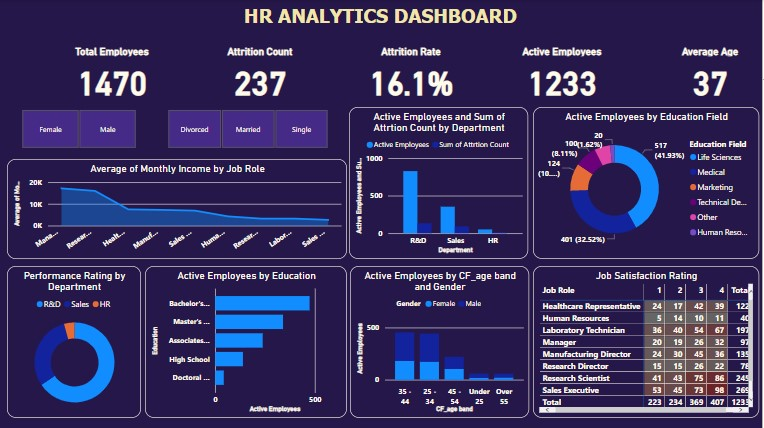

Layout of this report page (visuals, bound fields, positions):
{"tool":"powerbi","page":{"name":"Page 1","canvas":[1280,720],"ordinal":0},"visuals":[{"type":"card","title":"Total Employees","fields":{"Values":["Sum(HR data.Employee Count)"]},"box":[105.8,77.3,164.6,95.7],"z":0,"group":"g1"},{"type":"clusteredColumnChart","fields":{"Y":["HR data.Active Employees","Sum(HR data.Attrtion Count)"],"Category":["HR data.Department"]},"box":[586.2,181.4,300.7,255.3],"z":0},{"type":"card","title":"Attrition Count","fields":{"Values":["Sum(HR data.Attrtion Count)"]},"box":[354.4,77.3,164.6,95.7],"z":1000,"group":"g1"},{"type":"donutChart","fields":{"Y":["HR data.Active Employees"],"Category":["HR data.Education Field"]},"box":[895.3,181.4,379.6,255.3],"z":1000},{"type":"card","title":"Attrition Rate","fields":{"Values":["HR data.Attrition Rate"]},"box":[603,77.3,174.7,95.7],"z":2000,"group":"g1"},{"type":"columnChart","fields":{"Category":["HR data.CF_age band"],"Y":["HR data.Active Employees"],"Series":["HR data.Gender"]},"box":[587.9,448.5,300.7,255.3],"z":2000},{"type":"card","title":"Active Employees","fields":{"Values":["HR data.Active Employees"]},"box":[861.7,77.3,164.6,95.7],"z":3000,"group":"g1"},{"type":"pivotTable","title":"Job Satisfaction Rating","fields":{"Rows":["HR data.Job Role"],"Columns":["HR data.Job Satisfaction"],"Values":["HR data.Active Employees"]},"box":[895.3,448.5,379.6,255.3],"z":3000},{"type":"card","title":"Average Age","fields":{"Values":["Avg(HR data.Age)"]},"box":[1110.3,77.3,164.6,95.7],"z":4000,"group":"g1"},{"type":"donutChart","title":"Performance Rating by Department","fields":{"Y":["Sum(HR data.Performance Rating)"],"Category":["HR data.Department"]},"box":[11.8,448.5,225.1,255.3],"z":4000},{"type":"barChart","fields":{"Y":["HR data.Active Employees"],"Category":["HR data.Education"]},"box":[243.6,448.5,339.3,255.3],"z":5000},{"type":"areaChart","fields":{"Category":["HR data.Job Role"],"Y":["Avg(HR data.Monthly Income)"]},"box":[11.8,268.8,571.1,168],"z":6000},{"type":"slicer","fields":{"Values":["HR data.Gender"]},"box":[11.8,179.7,240.2,77.3],"z":7000},{"type":"slicer","fields":{"Values":["HR data.Marital Status"]},"box":[257,179.7,317.5,77.3],"z":8000},{"type":"group","id":"g1","title":"Group 1","box":[105.8,77.3,1169.1,95.7],"z":9000},{"type":"textbox","box":[0,3.4,1278.3,68.9],"z":10000}]}

Visuals, with their boxes in screenshot pixels (x1, y1, x2, y2), scaled from the page's 1280x720 canvas onto the 764x428 screenshot:
"Total Employees" card: box=[63, 46, 161, 103]
clusteredColumnChart - HR data.Active Employees x Sum(HR data.Attrtion Count): box=[350, 108, 529, 260]
"Attrition Count" card: box=[212, 46, 310, 103]
donutChart - HR data.Active Employees x HR data.Education Field: box=[534, 108, 761, 260]
"Attrition Rate" card: box=[360, 46, 464, 103]
columnChart - HR data.CF_age band x HR data.Active Employees: box=[351, 267, 530, 418]
"Active Employees" card: box=[514, 46, 613, 103]
"Job Satisfaction Rating" pivotTable: box=[534, 267, 761, 418]
"Average Age" card: box=[663, 46, 761, 103]
"Performance Rating by Department" donutChart: box=[7, 267, 141, 418]
barChart - HR data.Active Employees x HR data.Education: box=[145, 267, 348, 418]
areaChart - HR data.Job Role x Avg(HR data.Monthly Income): box=[7, 160, 348, 260]
slicer - HR data.Gender: box=[7, 107, 150, 153]
slicer - HR data.Marital Status: box=[153, 107, 343, 153]
"Group 1" group: box=[63, 46, 761, 103]
textbox: box=[0, 2, 763, 43]
